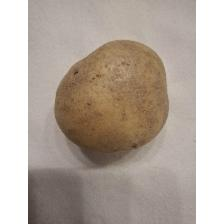Kartoffel: (51, 36, 171, 156)
